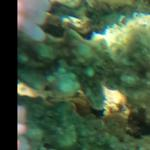dead: (13, 1, 147, 146)
